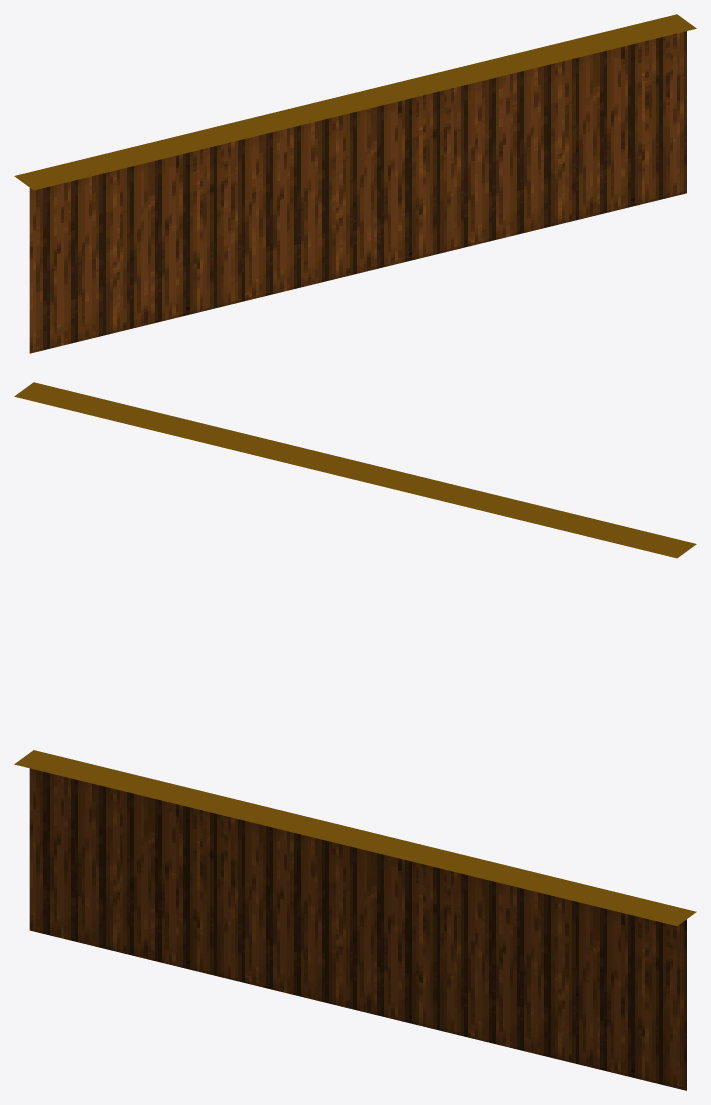
File: Geländer2_Hoch [Holz]_1648.glb
3 views of the same model, one above another, from view 1: azimuth 30°, elevation 25°; view 2: azimuth 150°, elevation 25°; view 3: azimuth 330°, elevation 25° (orthographic).
Visible parts, largest first — view 1: pPlaneShape223, pPlaneShape224; view 2: pPlaneShape224; view 3: pPlaneShape223, pPlaneShape224.
Boxes of the visible parts, x1,y1,x2,y2 form: pPlaneShape223: (29, 31, 686, 353); pPlaneShape224: (14, 14, 696, 190); pPlaneShape224: (14, 382, 696, 558); pPlaneShape223: (29, 768, 686, 1090); pPlaneShape224: (14, 750, 696, 925).
Bounding box in the file's own units: 0.4724 × 0.117 × 0.0243.
Materials: 2 (1 with a texture image).
